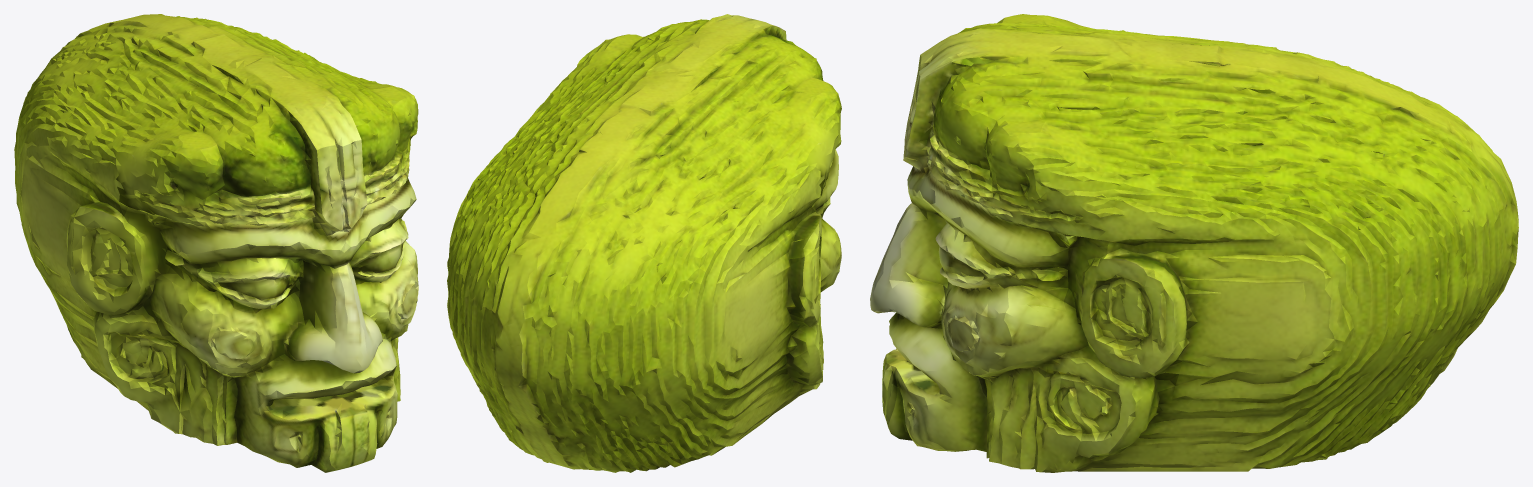
The model's file is totem_head.glb.
3 renders of one model, left to right at view 1: azimuth 30°, elevation 25°; view 2: azimuth 150°, elevation 25°; view 3: azimuth 270°, elevation 25°, orthographic. The views are drawn at different scales.
Parts seen in each view (by area): view 1: totem_head; view 2: totem_head; view 3: totem_head.
Boxes of the visible parts, x1,y1,x2,y2 form: totem_head: (14, 14, 418, 472); totem_head: (447, 14, 841, 472); totem_head: (870, 14, 1518, 472).
Size of the model in its own units: 2.19 by 2.2 by 3.34.
Materials: 1 (1 with a texture image).
